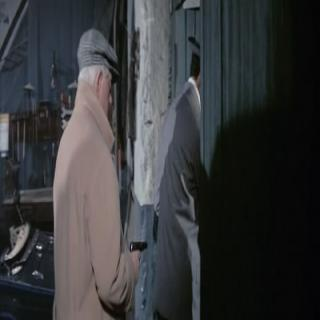gun: (126, 232, 153, 270)
